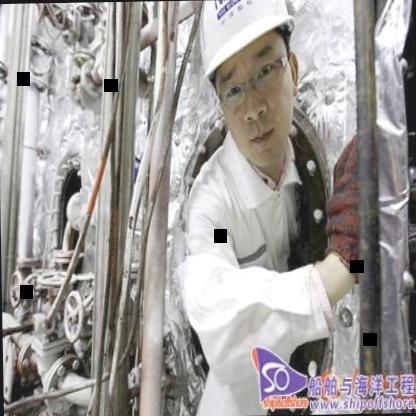helmet: (193, 0, 307, 178)
